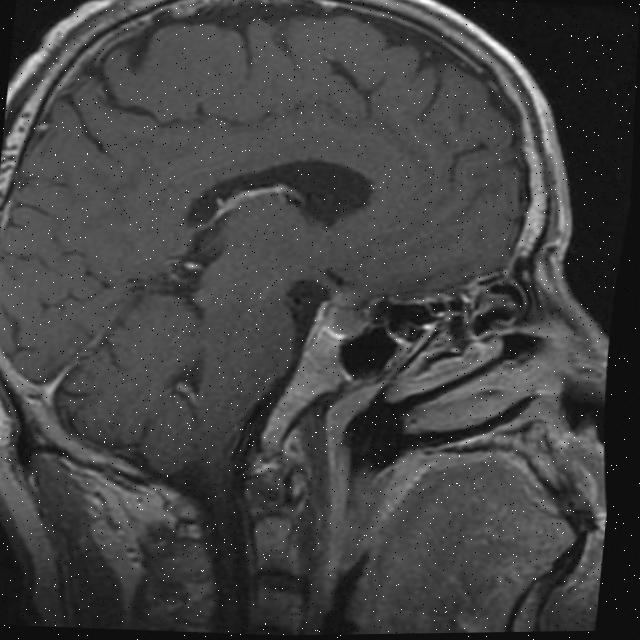Pituitary: (316, 296, 372, 341)
